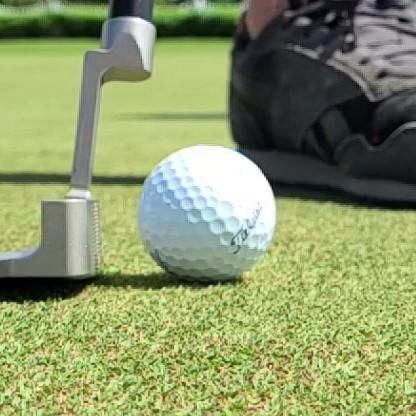golfball: (137, 146, 275, 283)
